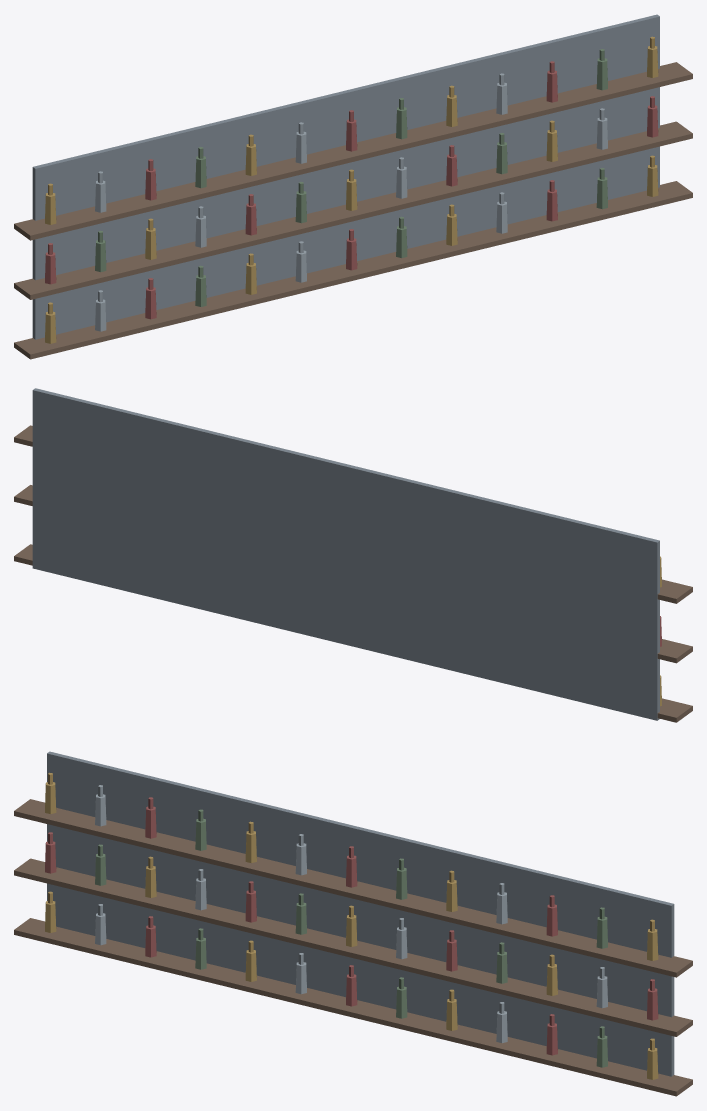
File: botellero_cafe.glb
The picture shows the model from 3 angles, top to bottom: view 1: azimuth 30°, elevation 25°; view 2: azimuth 150°, elevation 25°; view 3: azimuth 330°, elevation 25°; orthographic projection.
Parts seen in each view (by area): view 1: BotelleroCafe; view 2: BotelleroCafe; view 3: BotelleroCafe.
Boxes of the visible parts, x1=… form: BotelleroCafe: x1=14, y1=14, x2=692, y2=359; BotelleroCafe: x1=14, y1=388, x2=692, y2=722; BotelleroCafe: x1=14, y1=751, x2=692, y2=1096.
Size of the model in its own units: 7 by 1.8 by 0.305.
